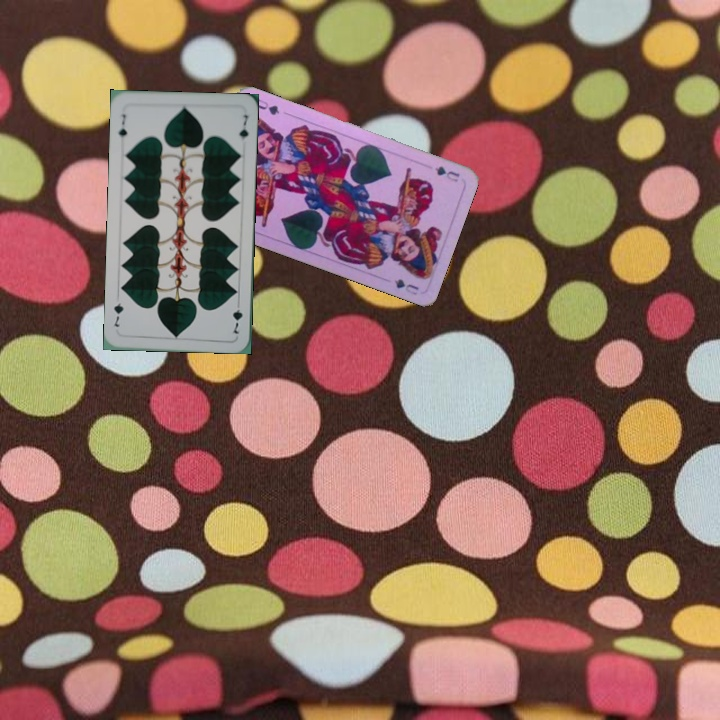G7: (228, 297, 245, 336), (114, 110, 129, 140)
GU: (431, 162, 462, 184)
